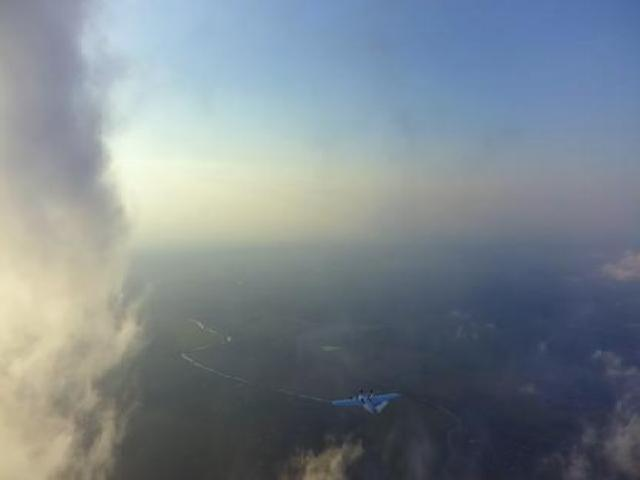uav: (332, 386, 402, 419)
